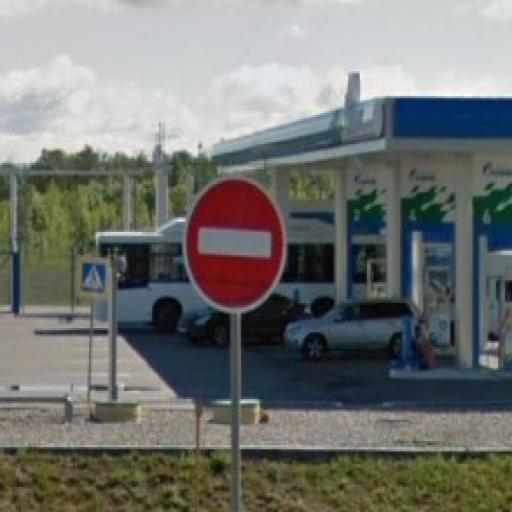traffic_sign: (183, 175, 289, 315), (76, 256, 113, 302)
